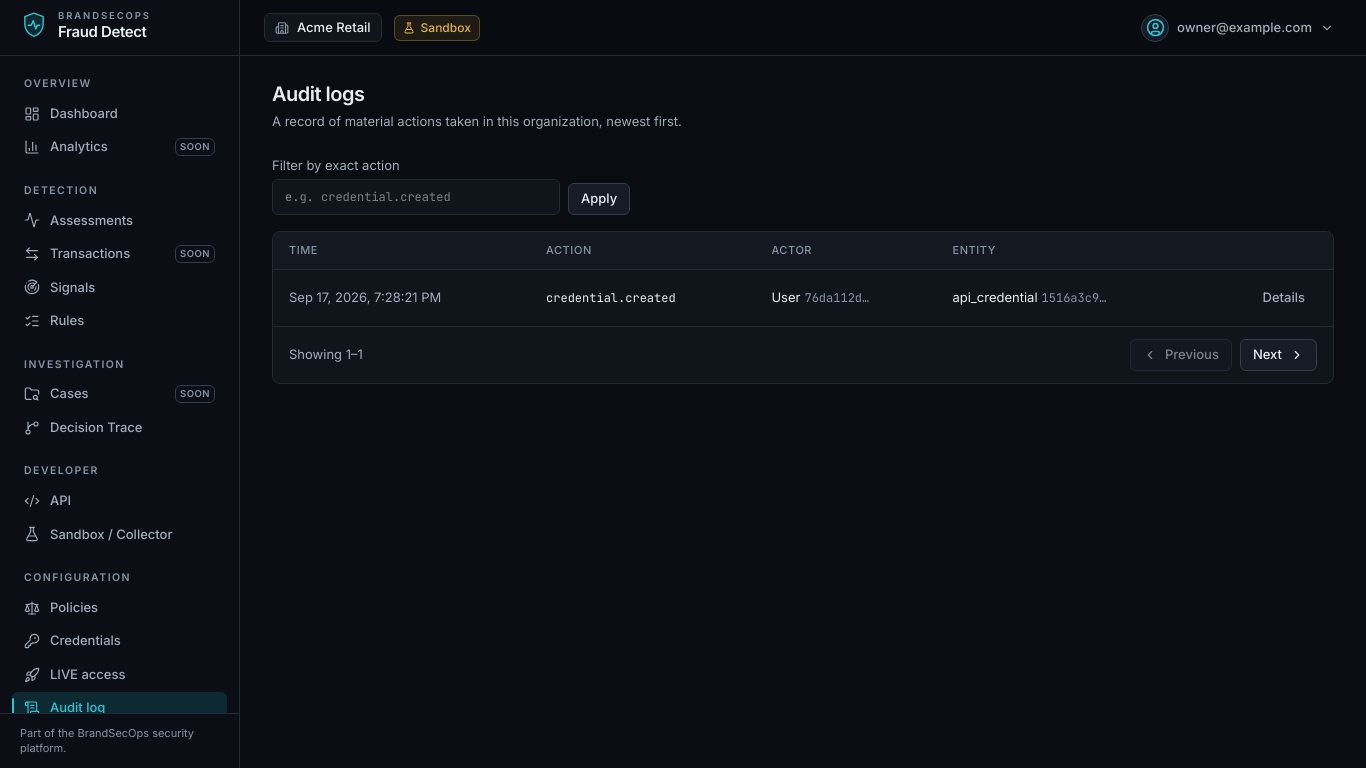
Scenario: audit log pagination › requests pages from the server and follows has_more
Expected: the text "credential.created" is shown, x1=546 y1=290 x2=676 y2=306
Expected: the button "Previous" is disabled, x1=1130 y1=338 x2=1232 y2=370
Click the button "Next".
click(1278, 354)  # box x1=1240 y1=338 x2=1317 y2=370
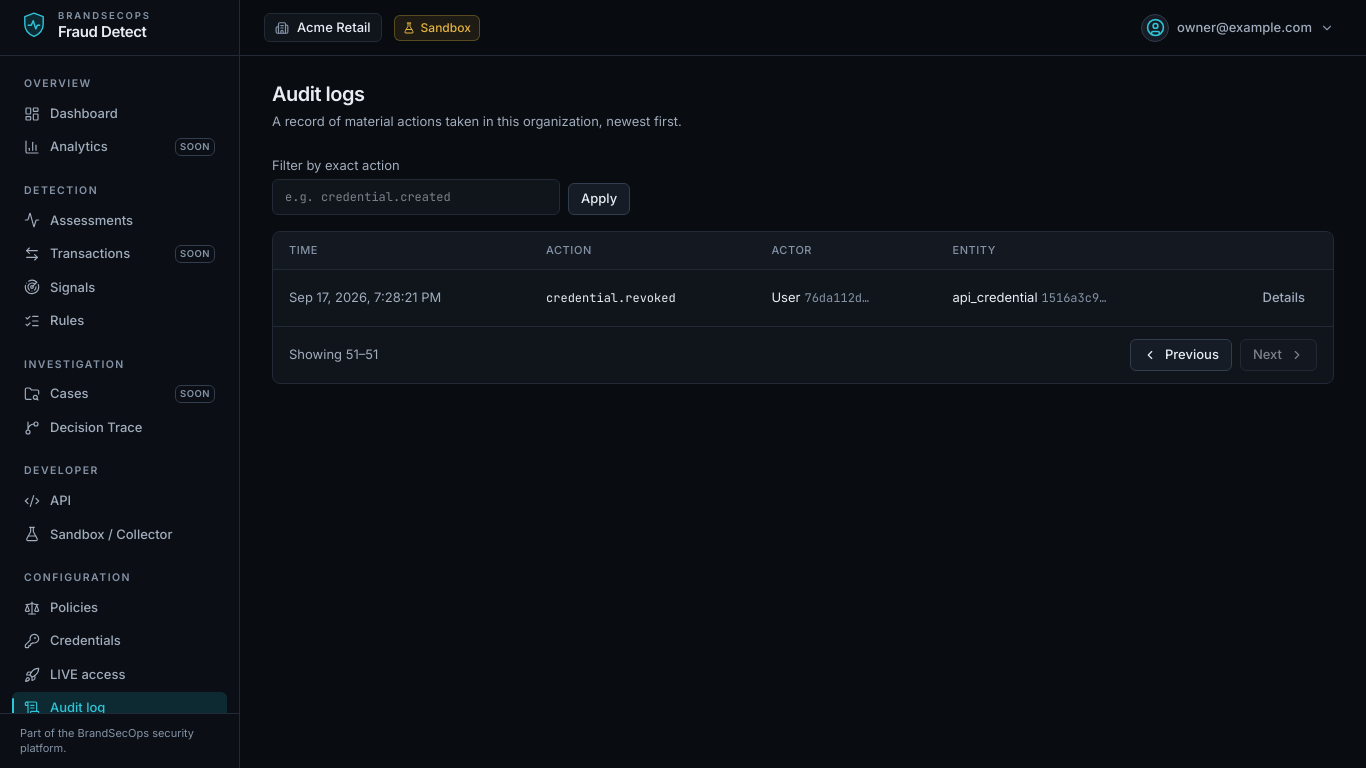
Expected: the text "credential.revoked" is shown, x1=546 y1=290 x2=676 y2=306
Expected: the button "Next" is disabled, x1=1240 y1=338 x2=1317 y2=370
Expected: the text "Showing 51–51" is shown, x1=289 y1=345 x2=378 y2=364
